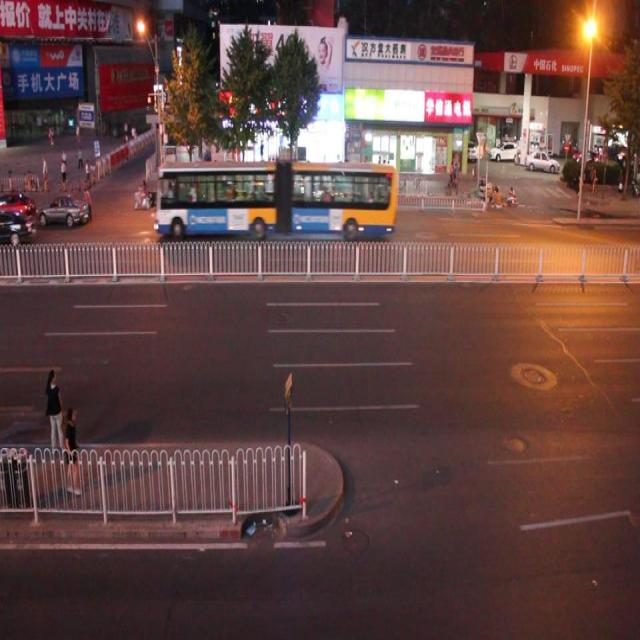car: (184, 176, 237, 219), (32, 188, 89, 226), (1, 208, 36, 244)
van: (155, 160, 397, 238)
